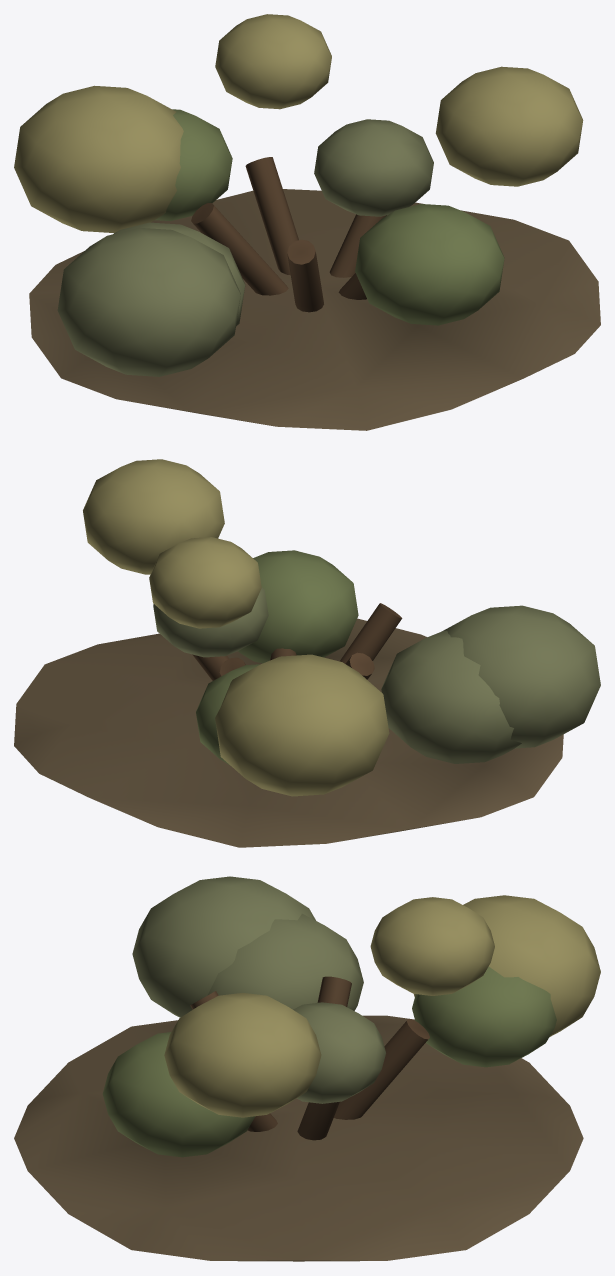
Rendered from saltbush_b.glb.
3 renders of one model, top to bottom at view 1: azimuth 30°, elevation 25°; view 2: azimuth 150°, elevation 25°; view 3: azimuth 270°, elevation 25°, orthographic. The views are drawn at different scales.
Visible parts, largest first — view 1: Surface; view 2: Surface; view 3: Surface.
Boxes of the visible parts, bbox=[...] form: Surface: bbox=[14, 14, 600, 430]; Surface: bbox=[14, 459, 600, 847]; Surface: bbox=[14, 876, 600, 1261].
Bounding box in the file's own units: 1.87 × 0.9185 × 1.72.
